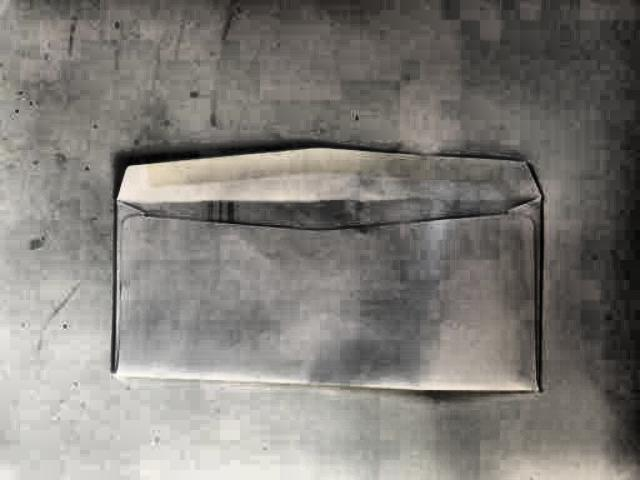Paper: (110, 146, 558, 394)
